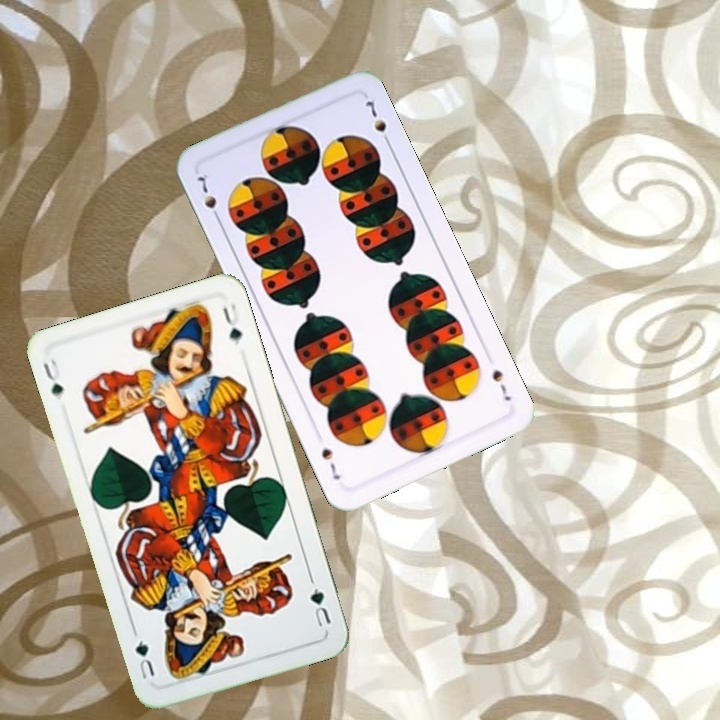GU: (39, 354, 66, 403), (306, 584, 334, 630)
S7: (193, 169, 224, 225), (488, 366, 514, 404)
